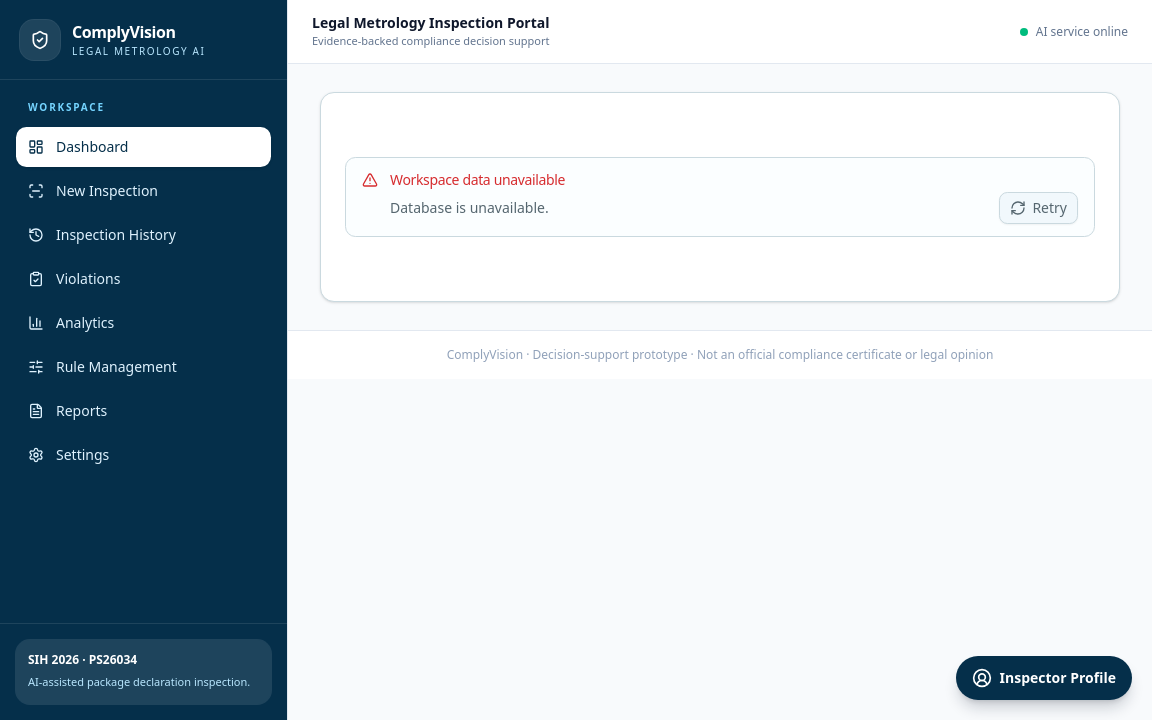
Test: AnalysisWorkspace › shows database failures on the dashboard and retries the fetch
Check: the text "Database is unavailable." is shown, box x1=390 y1=198 x2=549 y2=218
Check: the text "Total Inspections" is not shown
Click the button "Retry" at [1039, 208], box x1=999 y1=192 x2=1078 y2=224
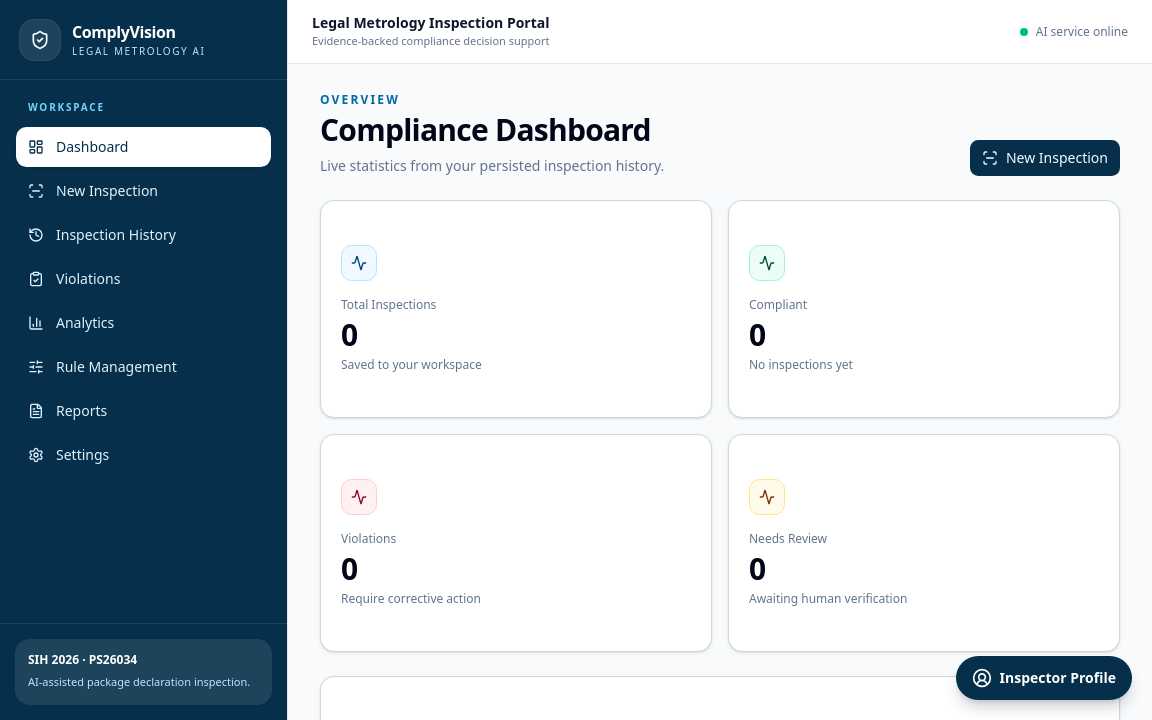
Check: the text "Total Inspections" is shown, box x1=341 y1=296 x2=436 y2=313
